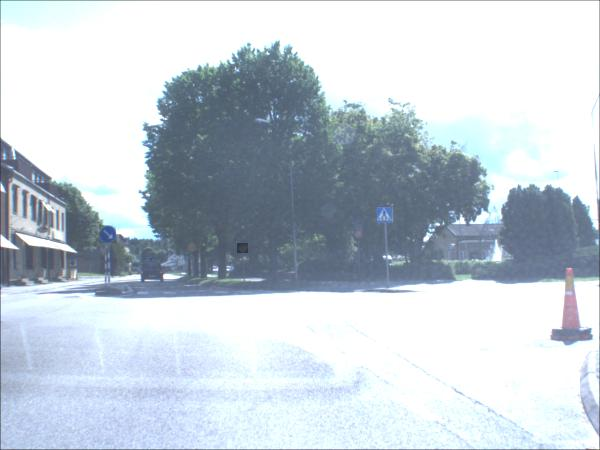50_SIGN: (189, 244, 199, 253)
PASS_RIGHT_SIDE: (100, 226, 118, 245)
PEDESTRIAN_CROSSING: (379, 208, 395, 226), (186, 256, 192, 262), (149, 259, 155, 263)
PRIORITY_ROAD: (238, 244, 250, 255), (179, 261, 184, 265)
